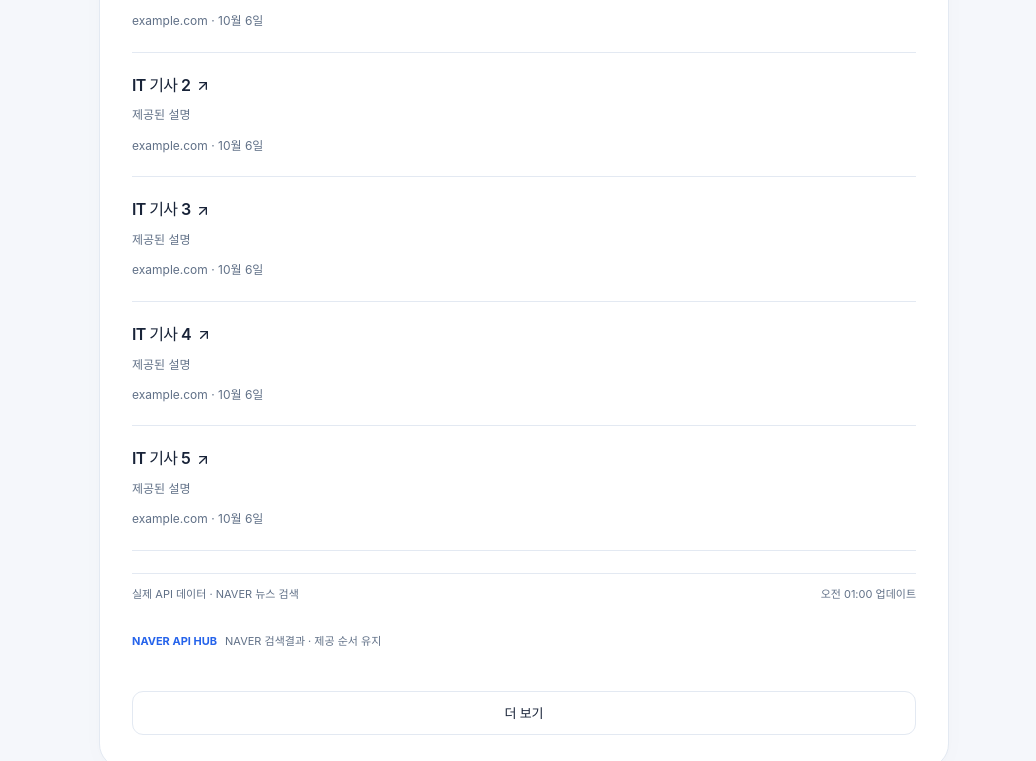
더 보기는 start6/display10으로 추가하고 탭 복귀에도 결과를 유지한다
(page scrolled)
Step 1. Click the button "더 보기" → [524, 714], box [132,692,916,736]
(page scrolled)
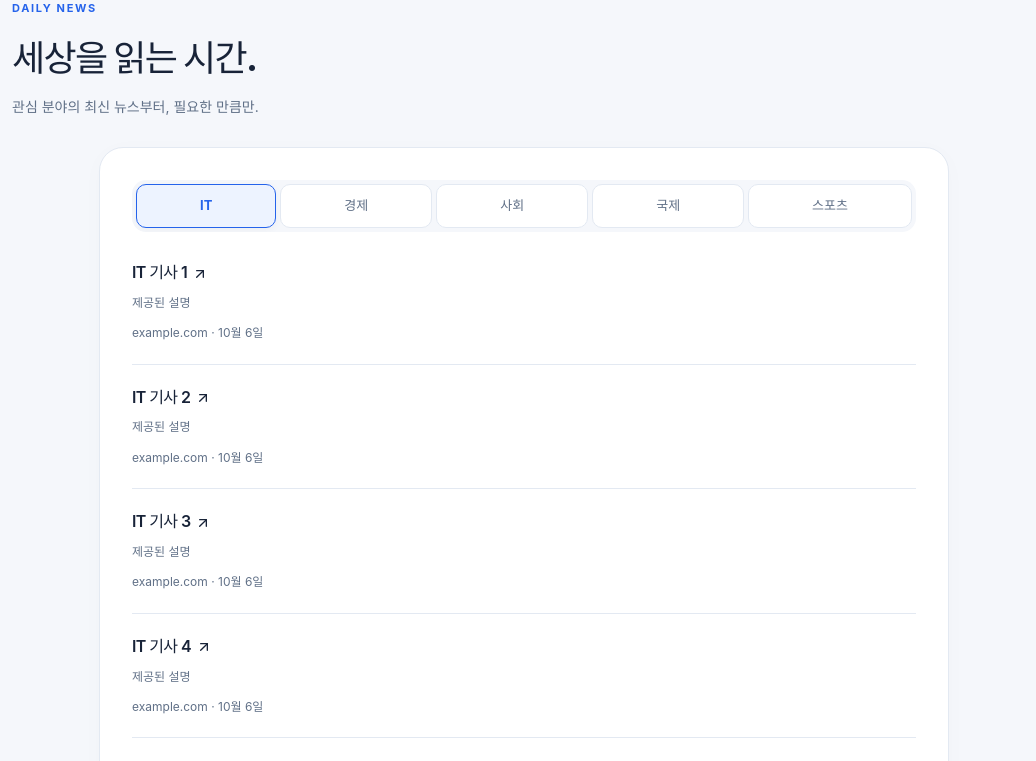
expect the number of elements with class "news-article" is 15: met
Step 2. Click the tab "스포츠" → [830, 206], box [748,184,912,228]
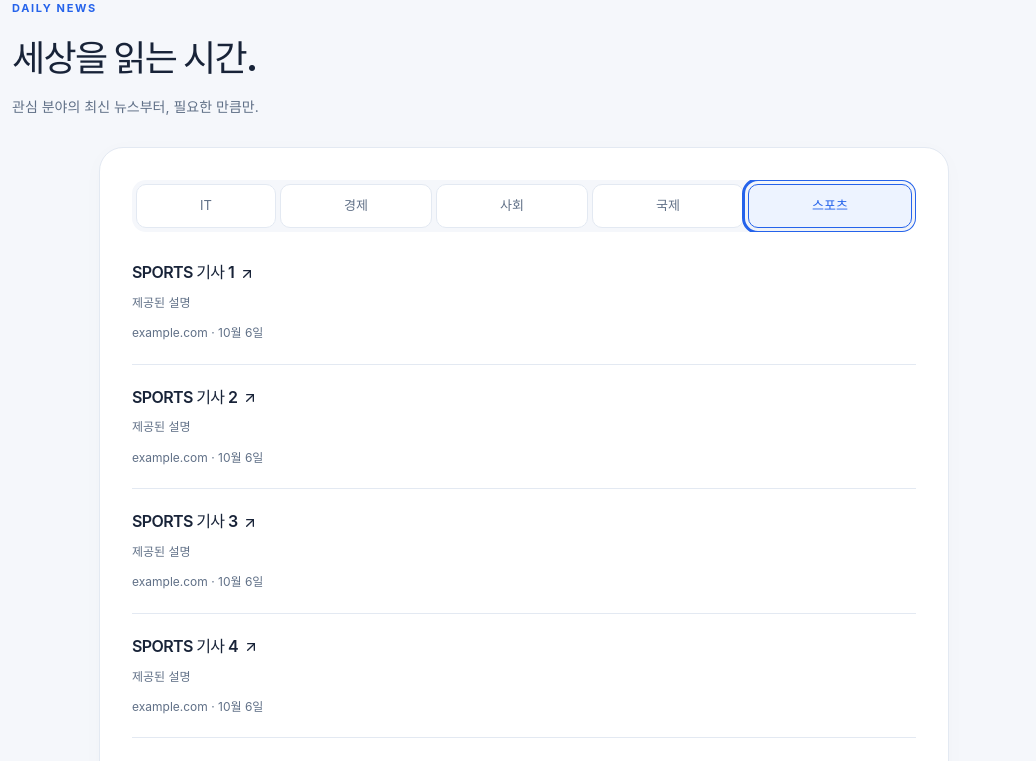
expect the link "SPORTS 기사 1" is shown: met, box [132,262,255,282]
Step 3. Click the tab "IT" → [206, 206], box [136,184,276,228]
(page scrolled)
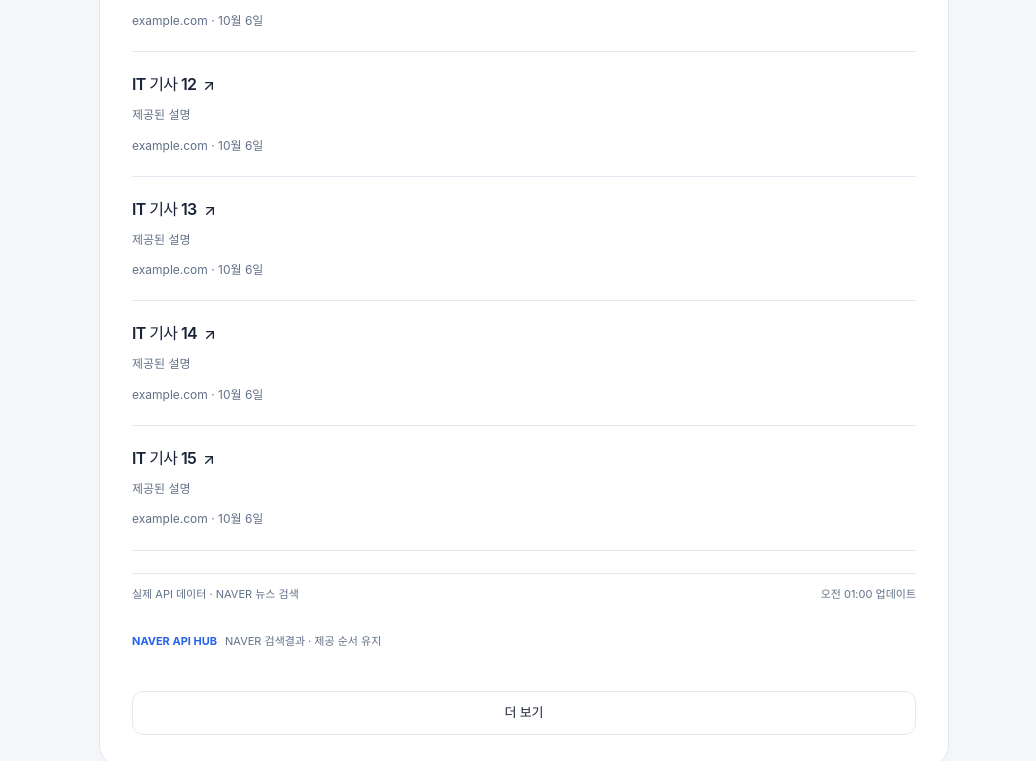
expect the link "IT 기사 15" is shown: met, box [132,448,217,468]
